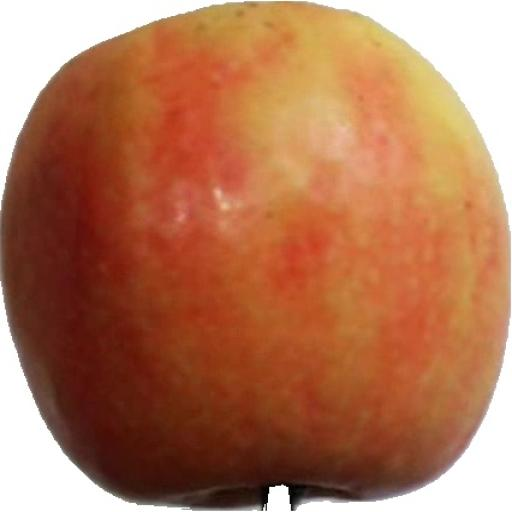apple-ripe: (0, 0, 512, 509)
